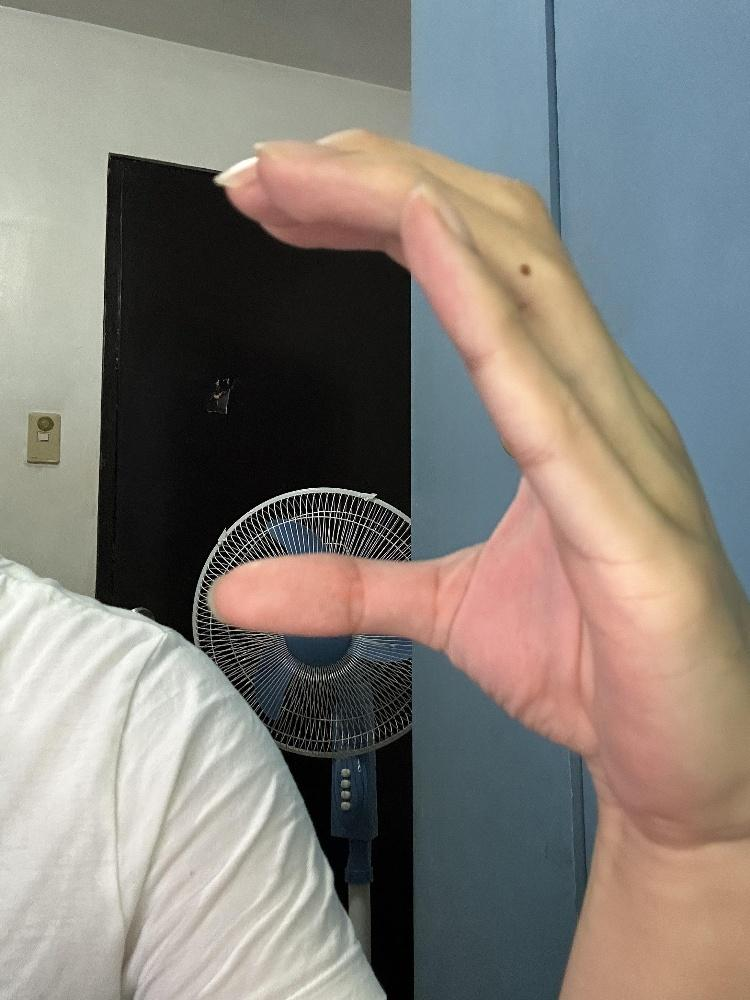c: (204, 120, 749, 844)
